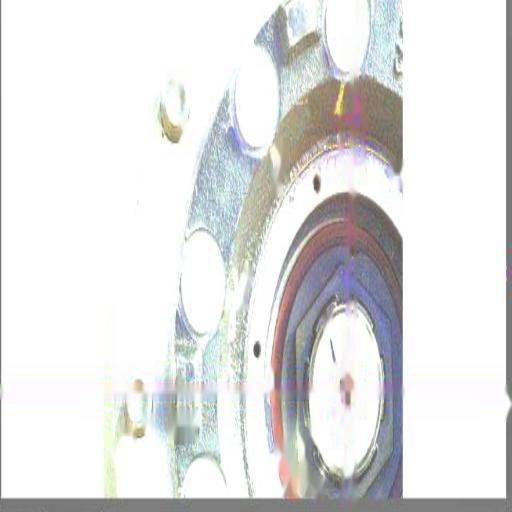center: (342, 388, 356, 411)
notch: (347, 234, 363, 270)
